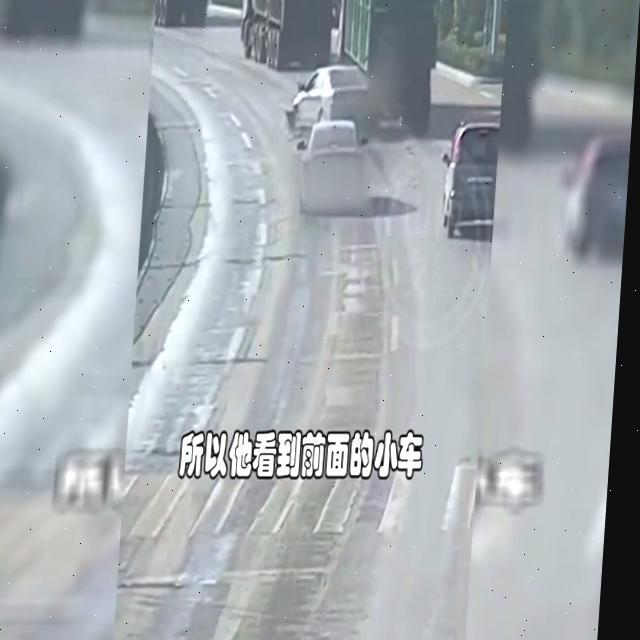multiple_accident: (275, 38, 392, 235)
